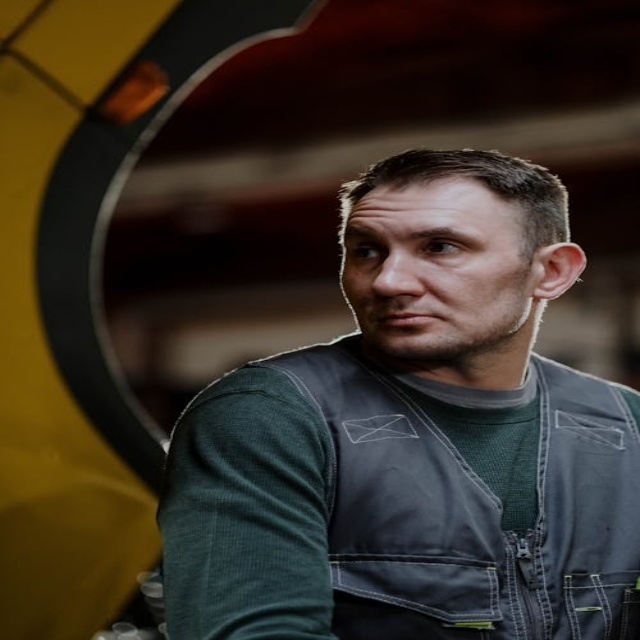Sin_gafas: (339, 218, 511, 267)
Sin_mascara: (356, 303, 463, 352)
